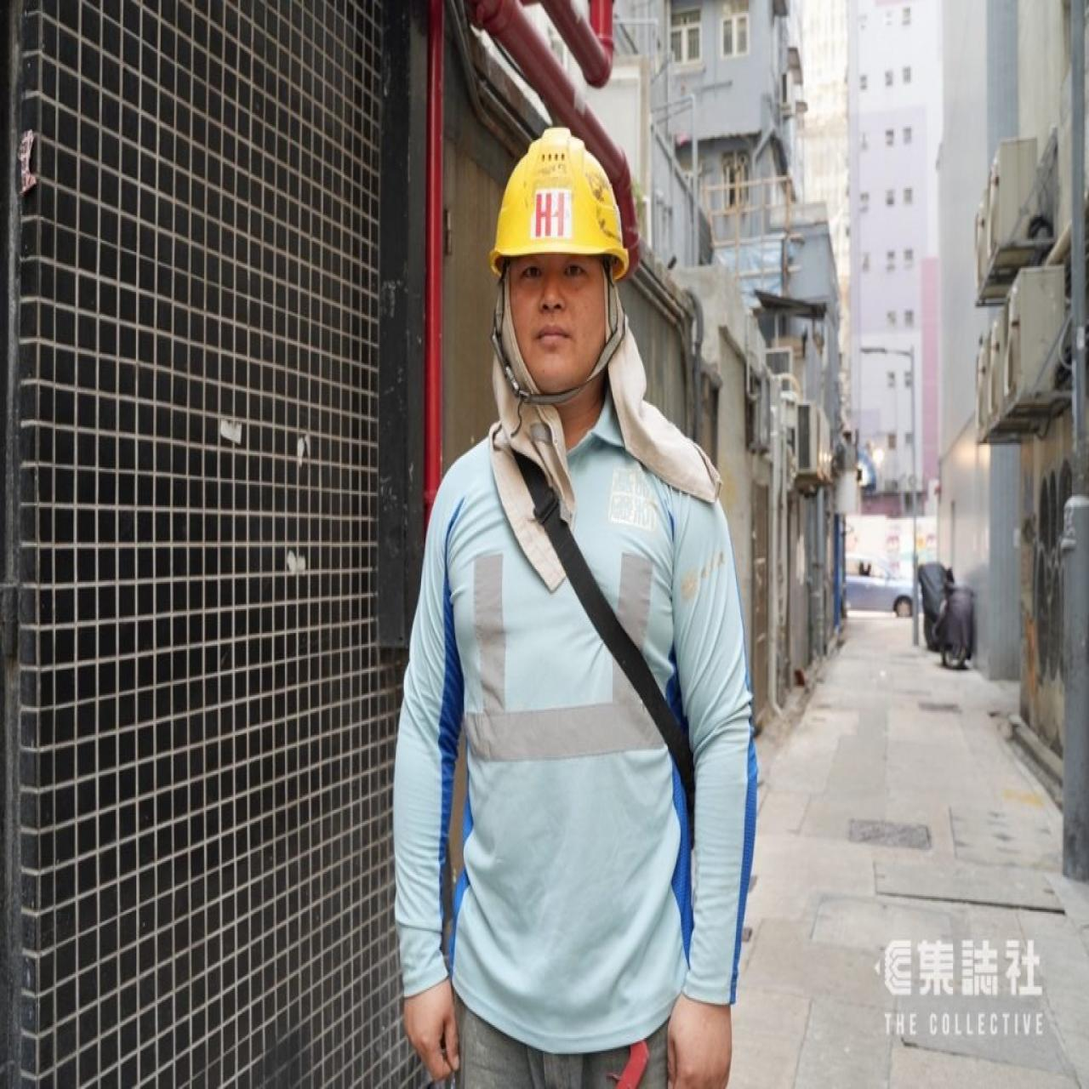NO_Safety_Vest: (415, 409, 728, 1050)
Person: (344, 96, 790, 1086)
